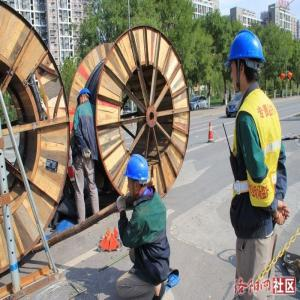blue: (227, 29, 266, 95), (126, 153, 152, 201), (77, 88, 93, 108)
